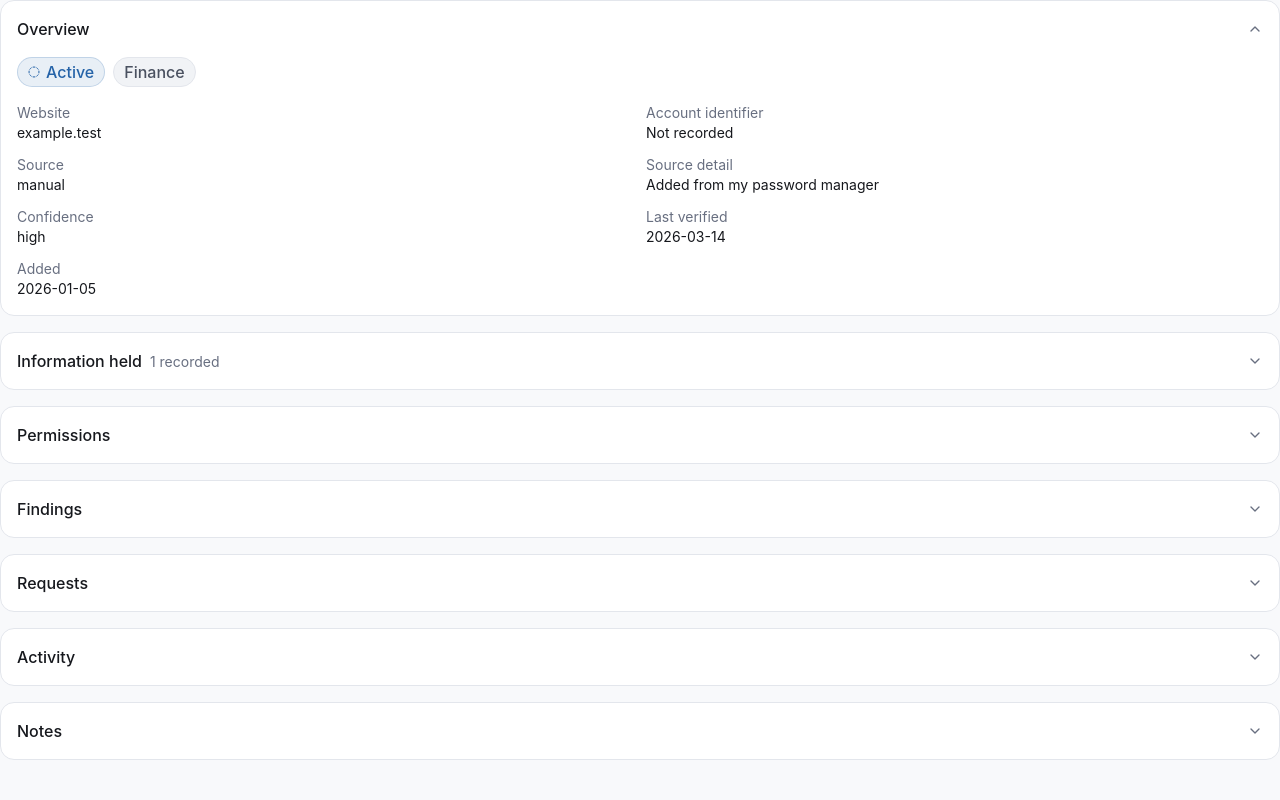
Scenario: source and last verified, only where the record has them › shows a data category's source and confidence but never a verified date
This screenshot has width=1280, height=800.
Click the heading "Information held". click: (80, 361)
box: x1=17 y1=349 x2=142 y2=373
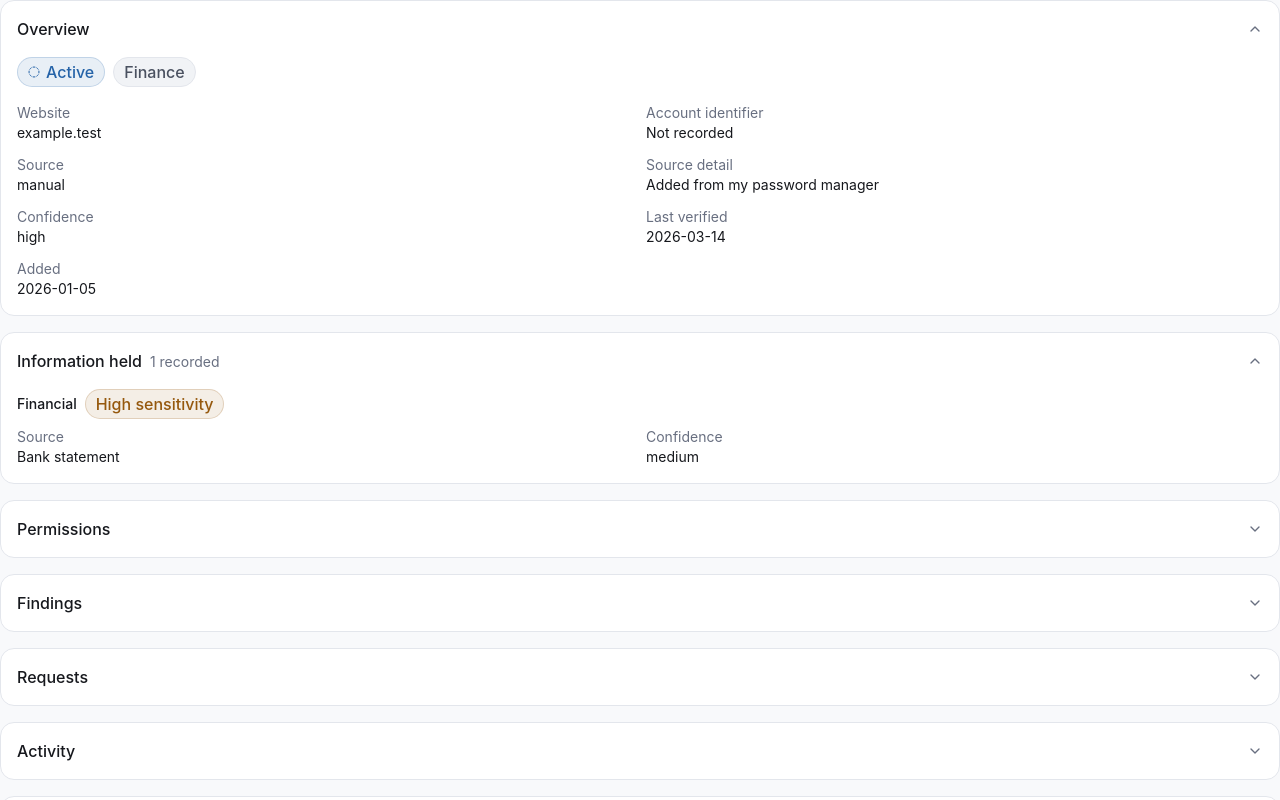
Expected: the text "Source" below "Financial" is shown, x1=17 y1=428 x2=64 y2=445
Expected: the 2nd text "Confidence" is shown, x1=646 y1=428 x2=723 y2=445
